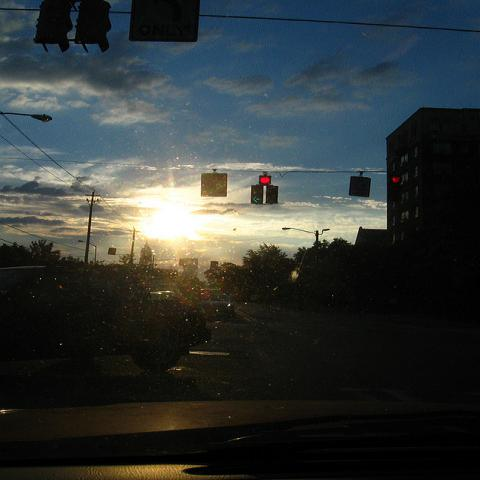car: (0, 265, 212, 379), (201, 292, 236, 316), (201, 289, 222, 298)
